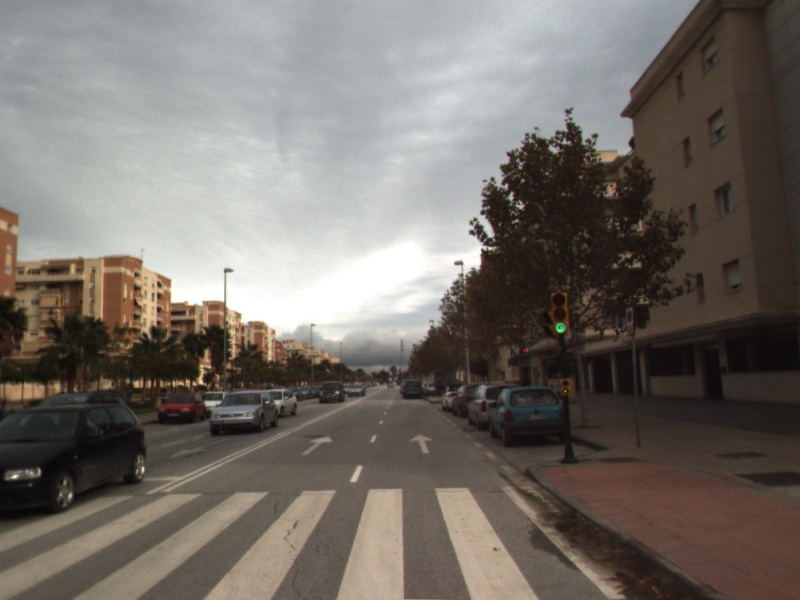STRAIGHT: (299, 433, 335, 457), (407, 431, 436, 455)
